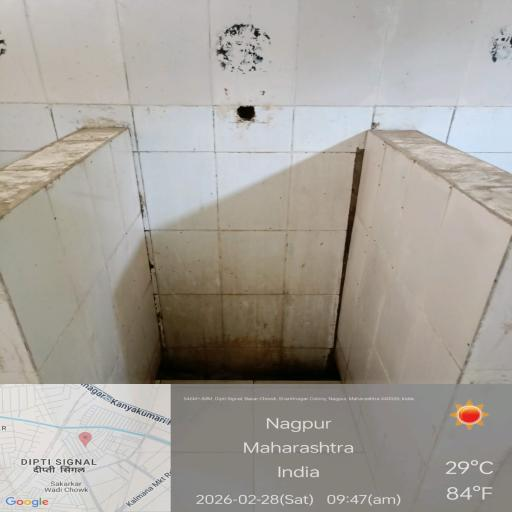clean_floor: (4, 0, 509, 125), (130, 132, 353, 240), (364, 180, 464, 366), (39, 189, 119, 380)
partial_dirty_floor: (122, 246, 371, 394), (357, 127, 512, 217), (0, 126, 100, 218)
